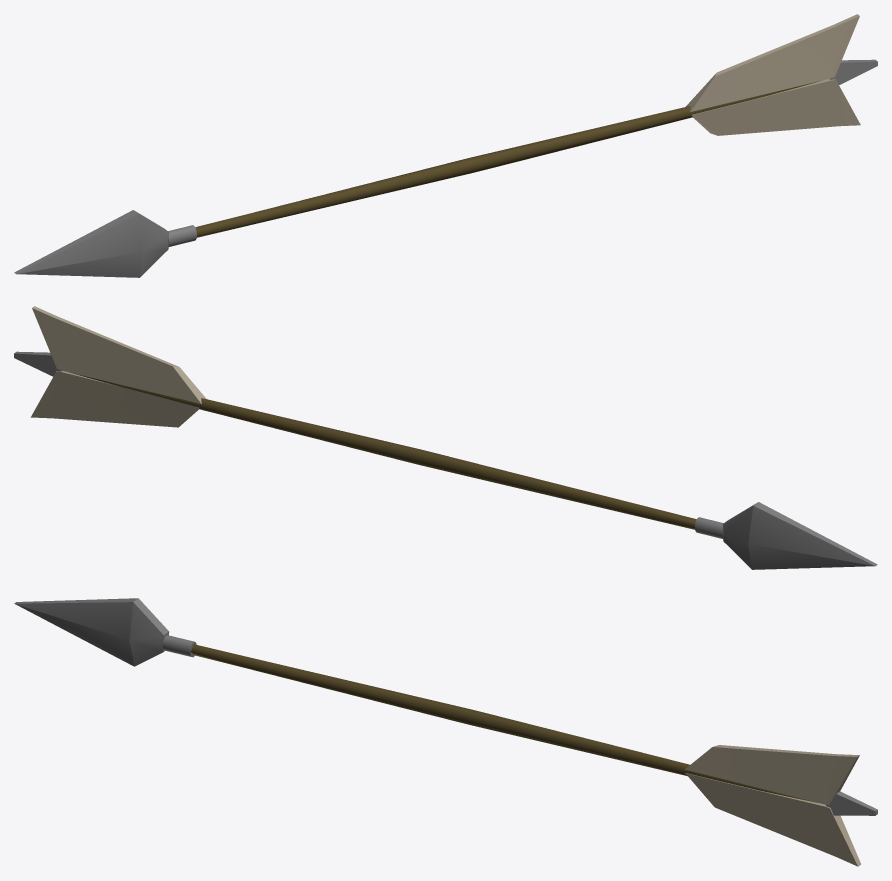
The model's file is pil.fbx.
The picture shows the model from 3 angles, top to bottom: view 1: azimuth 30°, elevation 25°; view 2: azimuth 150°, elevation 25°; view 3: azimuth 330°, elevation 25°; orthographic projection.
Parts seen in each view (by area): view 1: pCylinder2; view 2: pCylinder2; view 3: pCylinder2.
Part boxes in pixels (box(x1,y1,x2,y2)): pCylinder2: box(14, 14, 877, 277); pCylinder2: box(14, 306, 877, 569); pCylinder2: box(14, 598, 877, 866).
Bounding box in the file's own units: 5.16 × 0.6262 × 0.1468.
